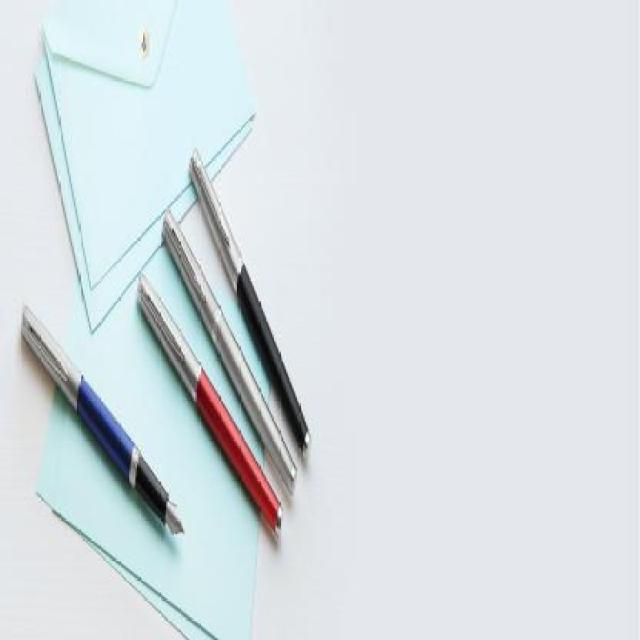pen: (99, 276, 289, 546), (178, 152, 325, 448), (16, 304, 197, 537)
